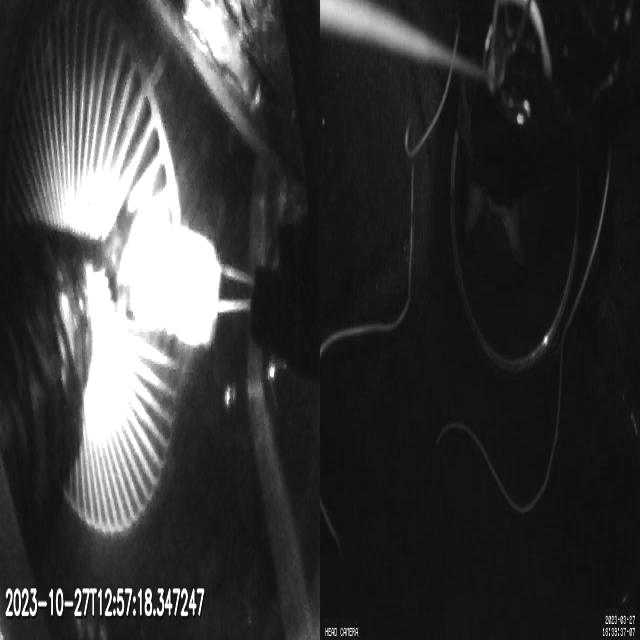head: (124, 207, 222, 349)
